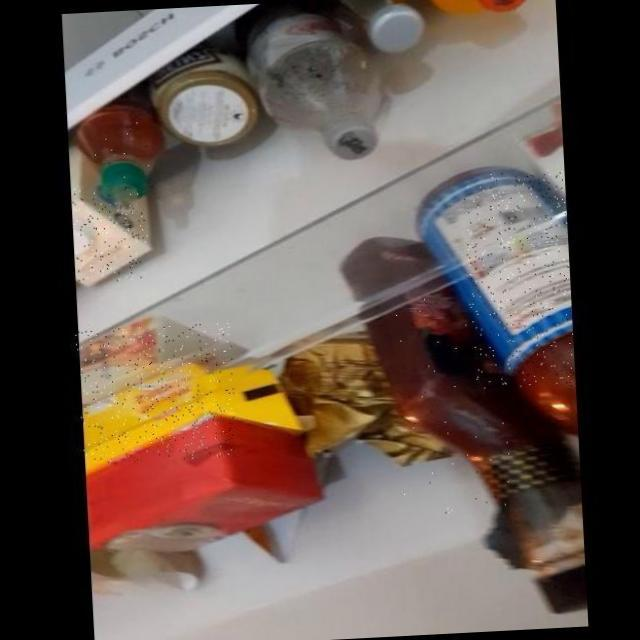Mantequilla: (74, 322, 237, 464)
